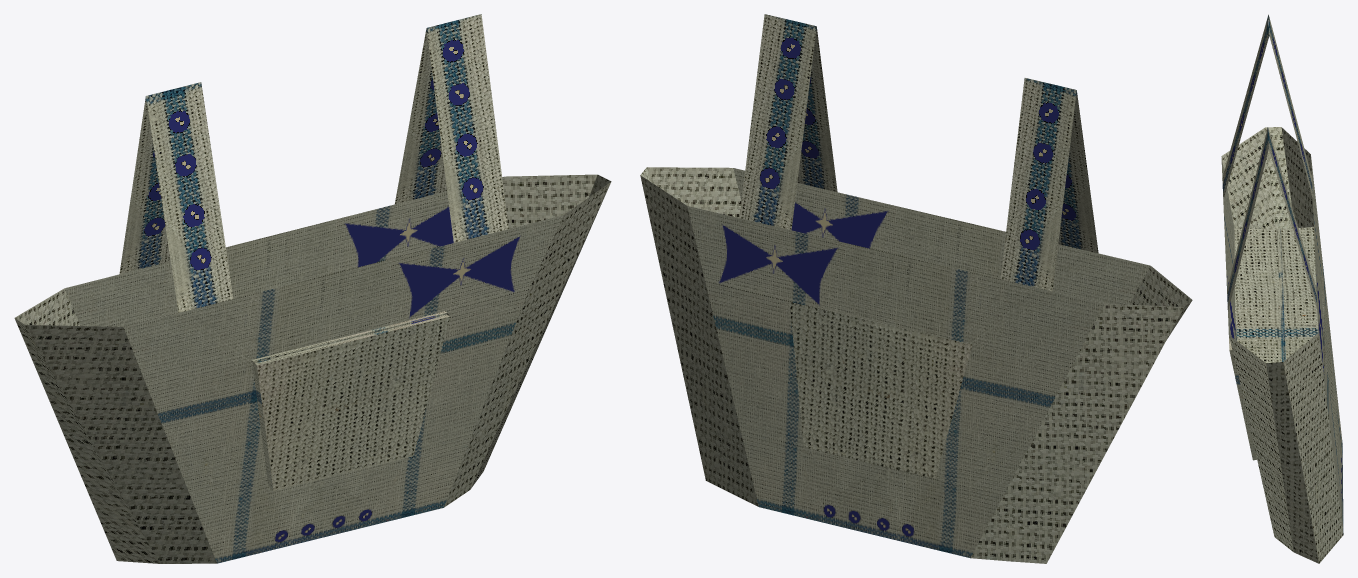
File: BOLSO.glb
3 renders of one model, left to right at view 1: azimuth 30°, elevation 25°; view 2: azimuth 150°, elevation 25°; view 3: azimuth 270°, elevation 25°, orthographic. The views are drawn at different scales.
Visible parts, largest first — view 1: Cylinder; view 2: Cylinder; view 3: Cylinder.
Part boxes in pixels (left/top/right/bottom): Cylinder: left=14, top=14, right=611, bottom=563; Cylinder: left=640, top=14, right=1192, bottom=563; Cylinder: left=1221, top=14, right=1343, bottom=563.
Bounding box in the file's own units: 4.24 × 3.36 × 0.9247.
1 material, 1 textured.
